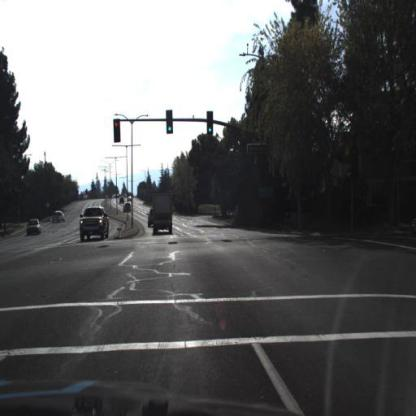car: (81, 207, 109, 243), (25, 219, 43, 237), (146, 208, 154, 231), (53, 211, 65, 223), (149, 207, 154, 228), (124, 203, 132, 215), (119, 197, 126, 207)
trafficLight: (112, 118, 122, 145)
trafficLight-Green: (166, 110, 175, 136), (206, 111, 214, 138)
trafficLight-RedLeft: (114, 117, 122, 143)
truck: (152, 191, 174, 236)
